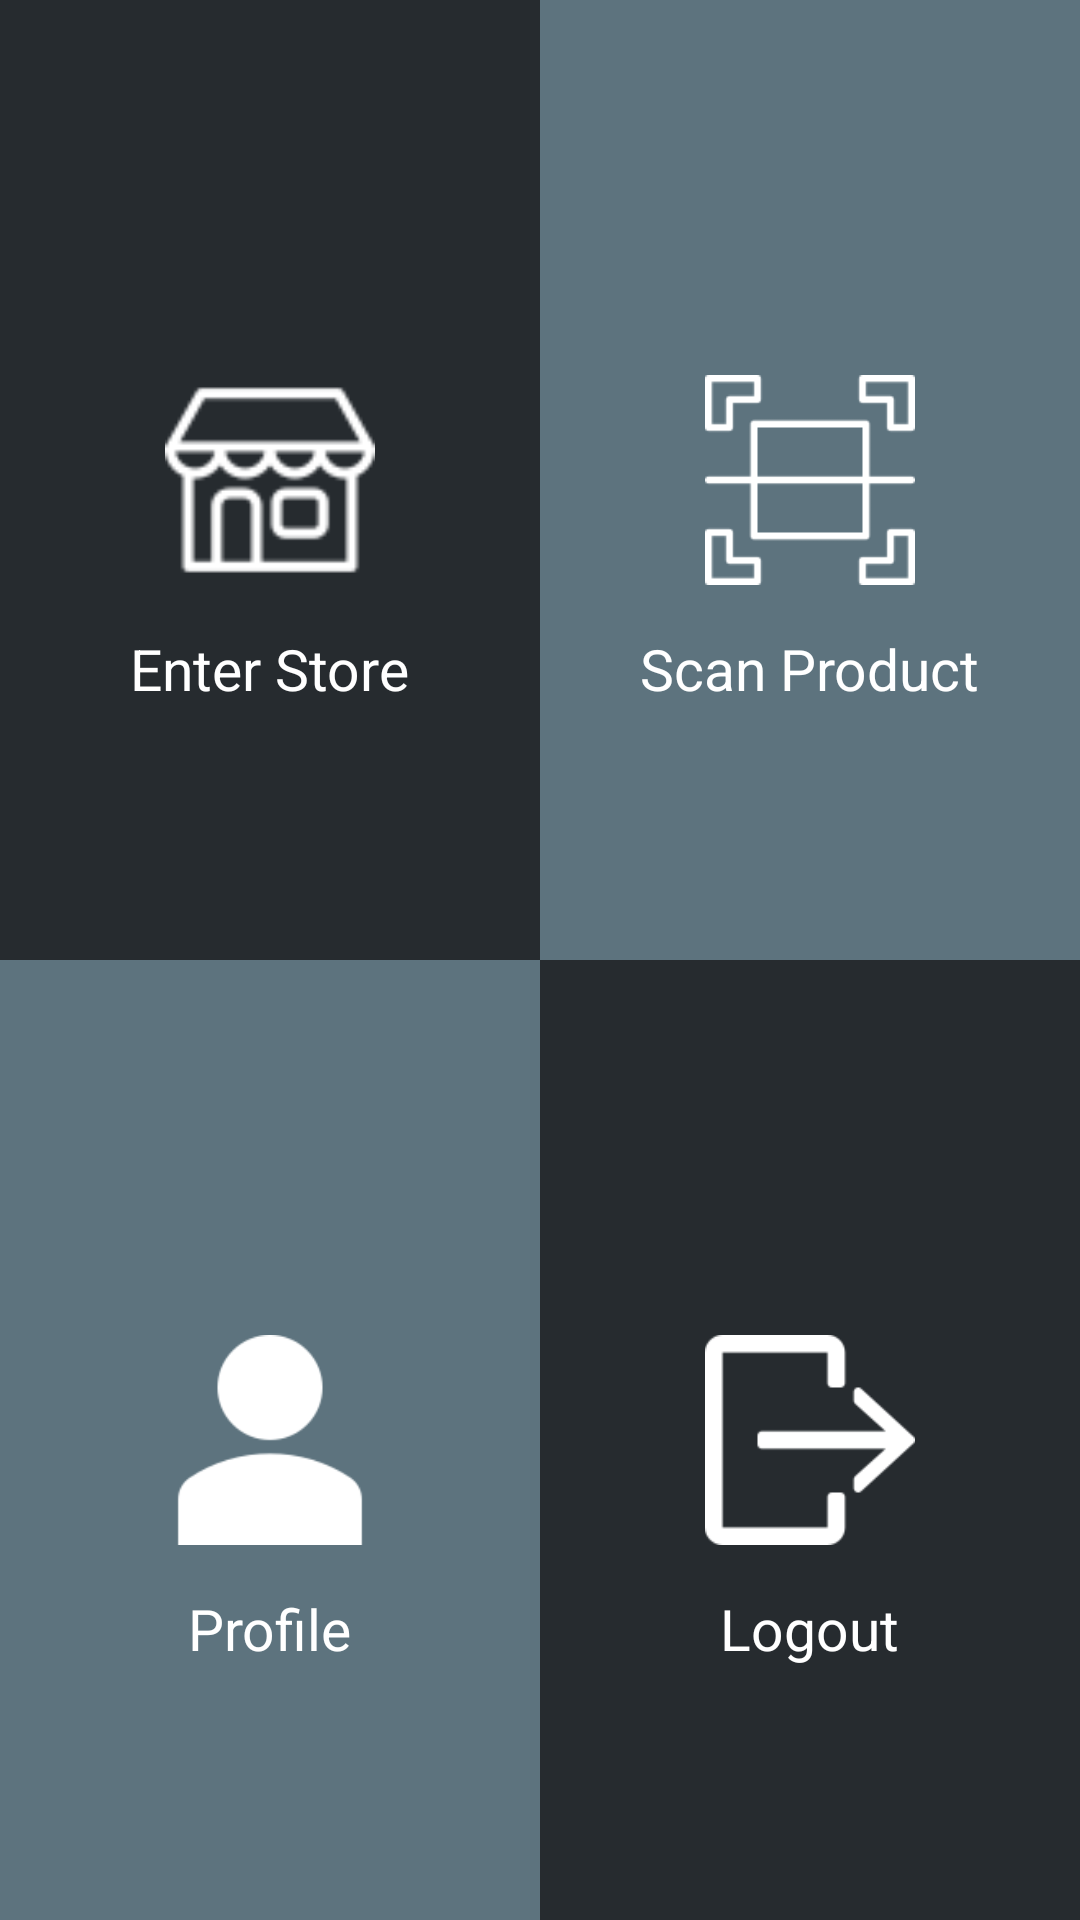

Icons on this 1080x1920 Android screen, each with its box as bbox=[x1, y1, x2, y2]:
user: bbox=[178, 1335, 362, 1545]
